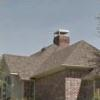Chimney: (46, 23, 72, 63)
